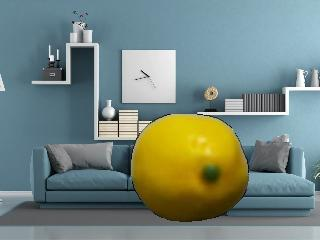lemon: (132, 114, 248, 223)
